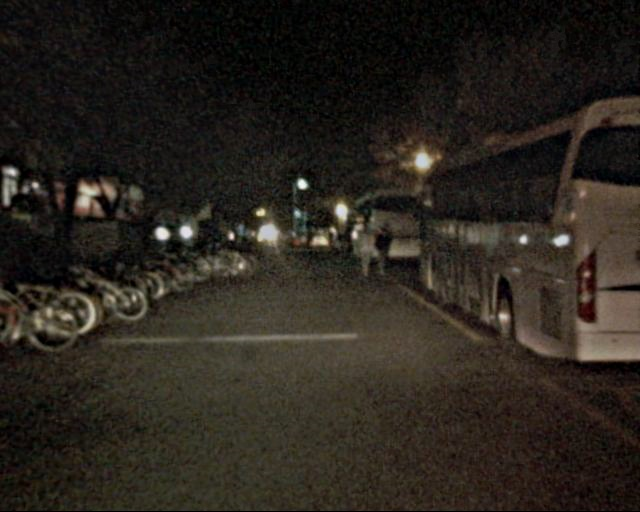person: (354, 224, 376, 277), (371, 224, 392, 275), (332, 226, 349, 268)
